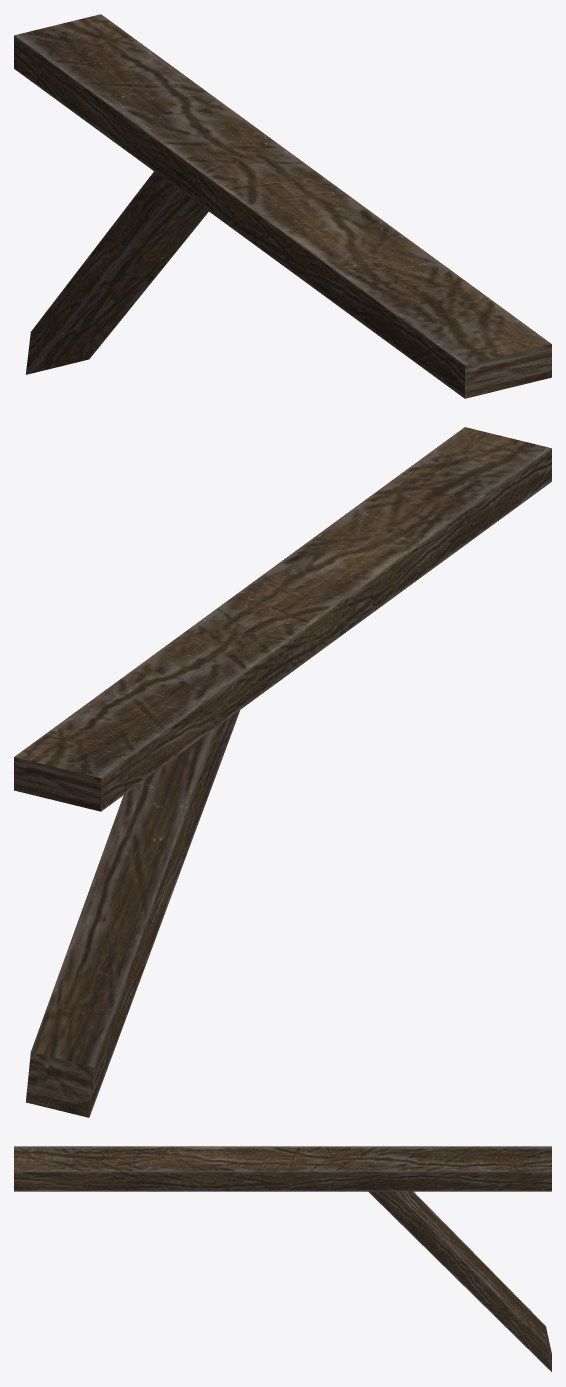
File: wooden_arch.fbx
3 renders of one model, top to bottom at view 1: azimuth 30°, elevation 25°; view 2: azimuth 150°, elevation 25°; view 3: azimuth 270°, elevation 25°, orthographic. The views are drawn at different scales.
Visible parts, largest first — view 1: wooden_arch; view 2: wooden_arch; view 3: wooden_arch.
Part boxes in pixels (x1=…): wooden_arch: x1=14, y1=14, x2=551, y2=398; wooden_arch: x1=14, y1=427, x2=551, y2=1117; wooden_arch: x1=14, y1=1146, x2=551, y2=1371.
Size of the model in its own units: 32.81 by 123 by 294.
